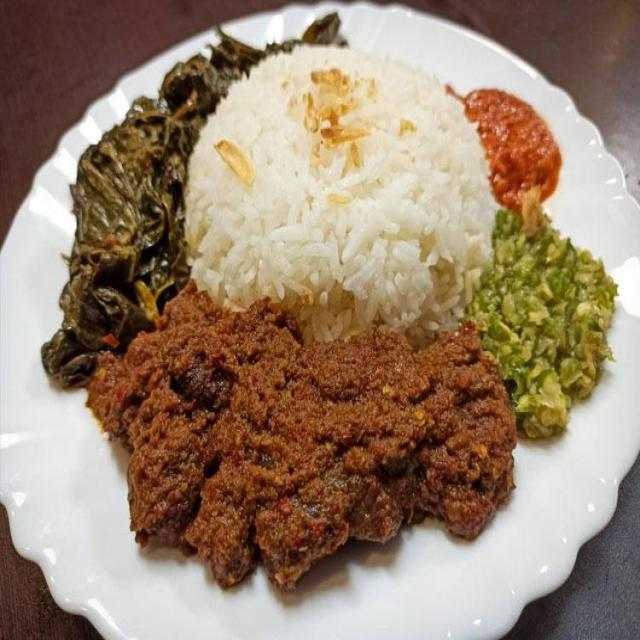Rendang: (91, 305, 520, 585)
